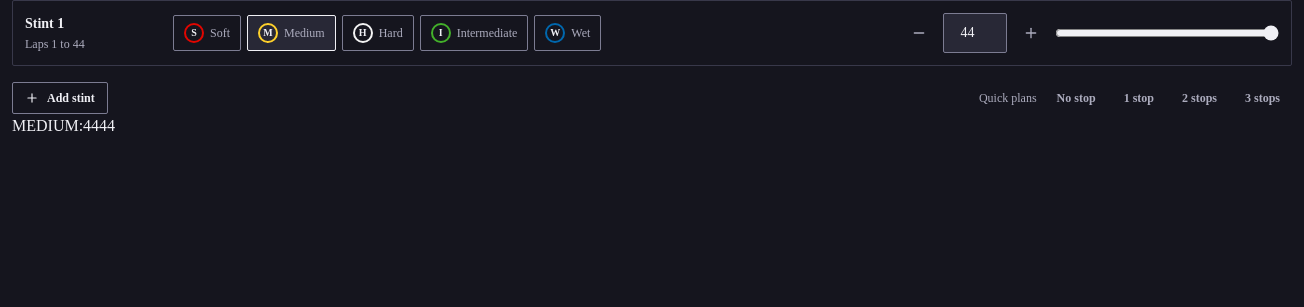
Test: StintEditor › offers ready-made plans that fill the race
Click the button "2 stops": click(1200, 98) [1170,82,1229,114]
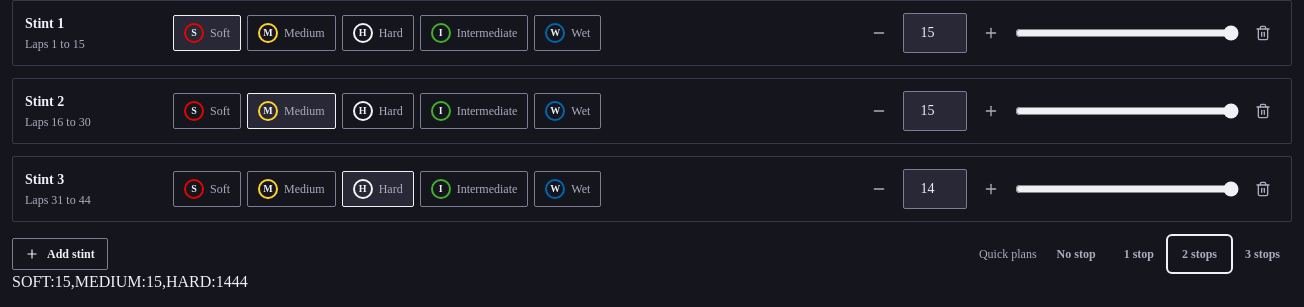
Expected: the text named "total" reads "44", [232,273,248,290]
Result: the number of elements "Stint 1" is 3 at [12,0,1292,66]; [12,78,1292,144]; [12,156,1292,222]
Click the button "No stop": click(1076, 254) [1045,238,1108,270]
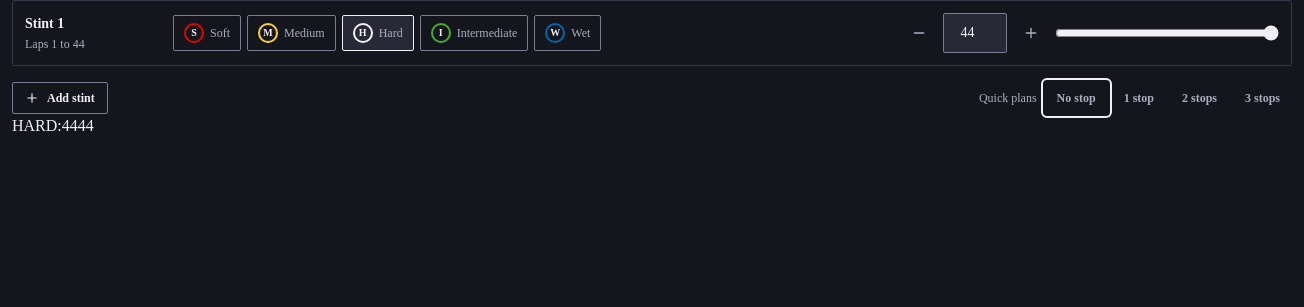
Result: the text named "plan" reads "HARD:44" at [12,117,78,134]
